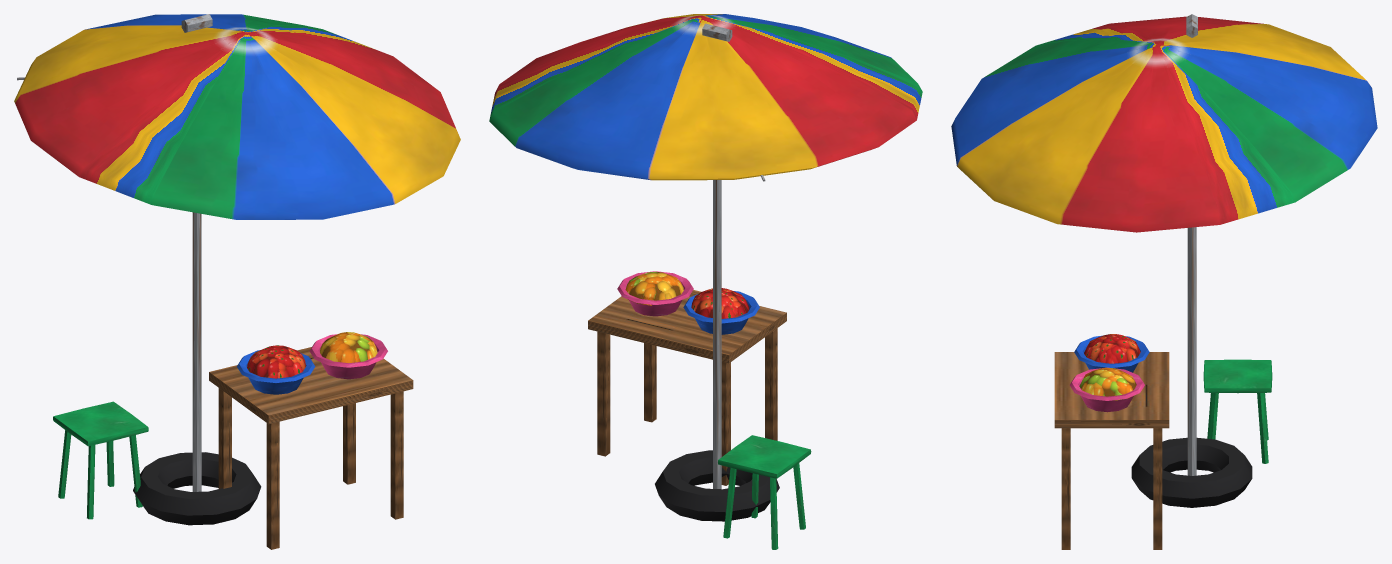
The model's file is mkt_umbrella.glb.
3 renders of one model, left to right at view 1: azimuth 30°, elevation 25°; view 2: azimuth 150°, elevation 25°; view 3: azimuth 270°, elevation 25°, orthographic. The views are drawn at different scales.
Parts seen in each view (by area): view 1: mkt_umbrella_body; view 2: mkt_umbrella_body; view 3: mkt_umbrella_body.
Boxes of the visible parts, x1=… form: mkt_umbrella_body: x1=14, y1=14, x2=460, y2=549; mkt_umbrella_body: x1=489, y1=14, x2=922, y2=549; mkt_umbrella_body: x1=951, y1=14, x2=1377, y2=549.
Size of the model in its own units: 1.86 by 2.24 by 1.86.
1 material, 1 textured.
